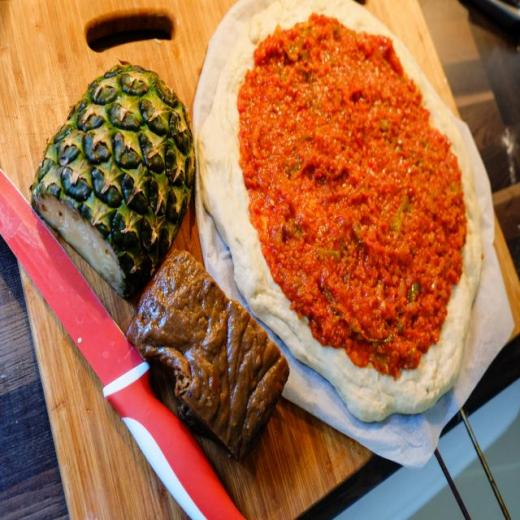Mango: (28, 64, 195, 297)
